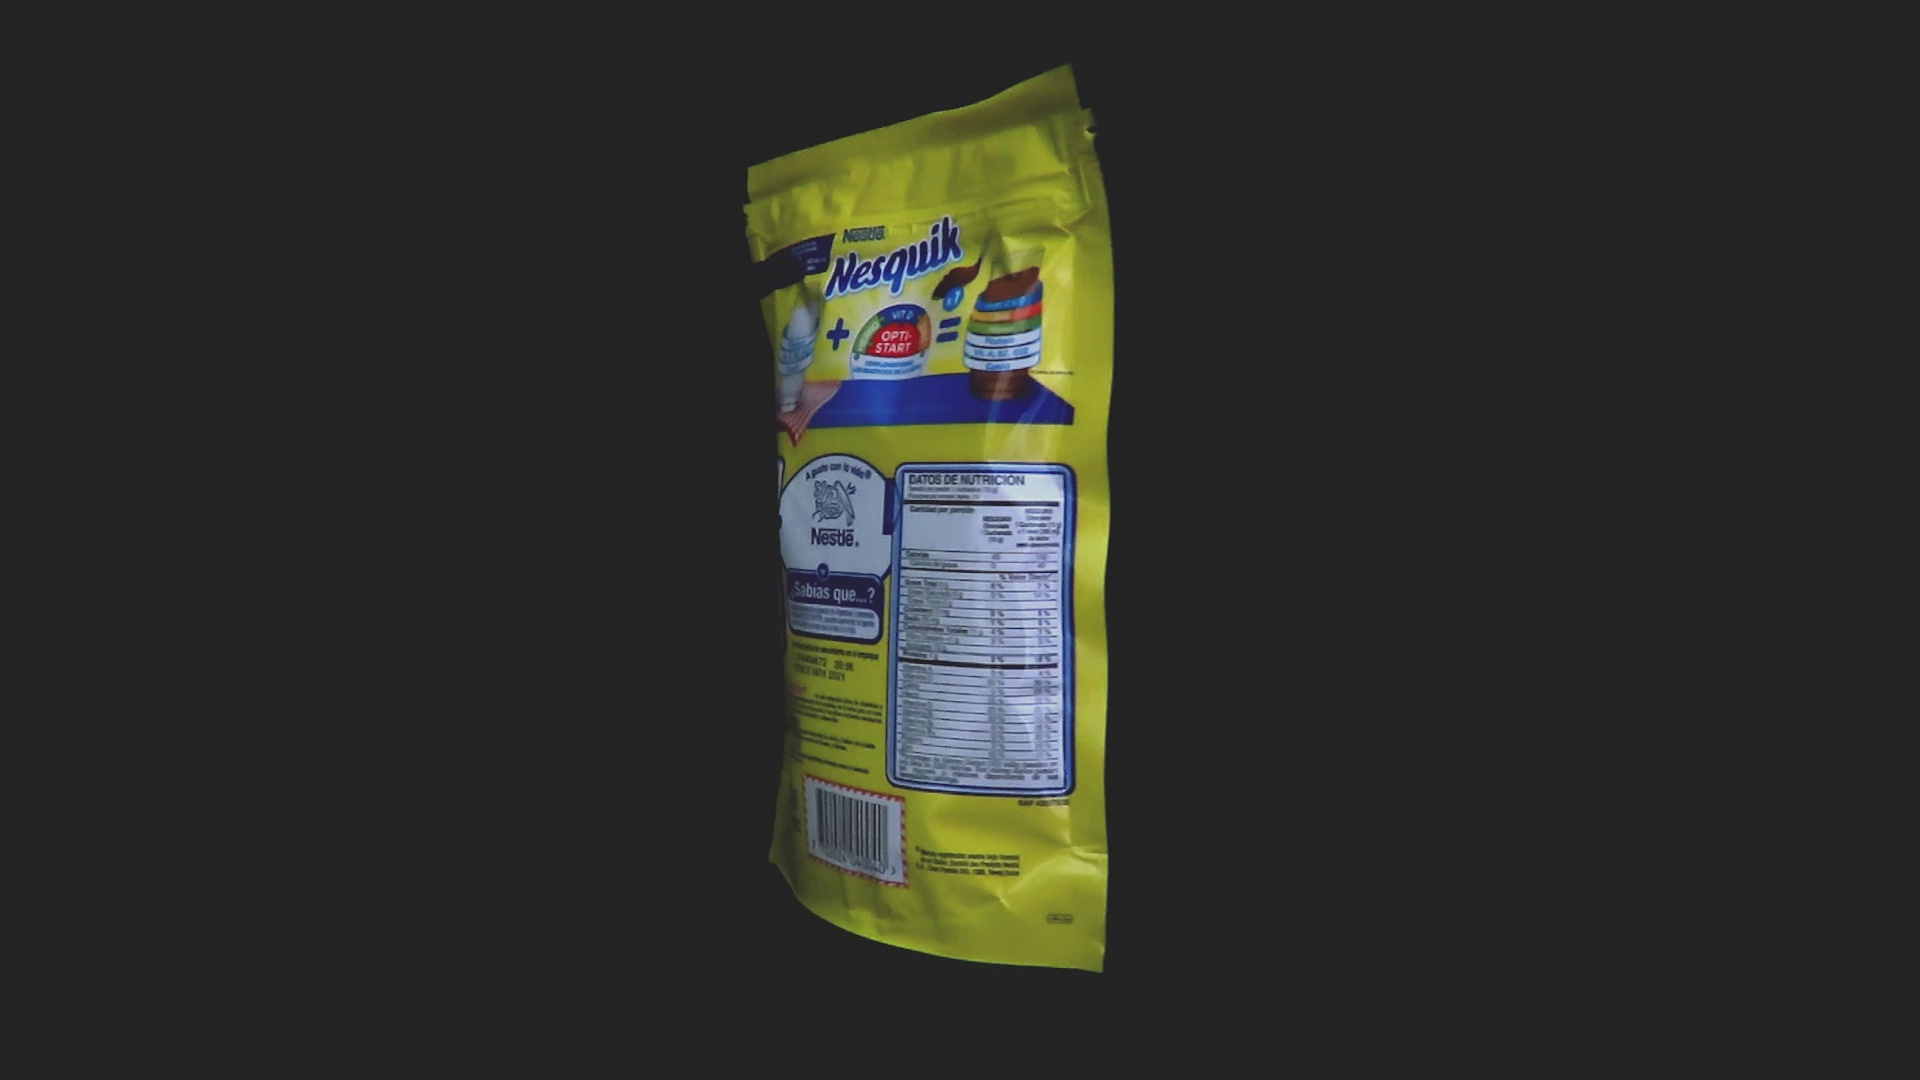COL0170303DYP20000: (738, 59, 1121, 978)
